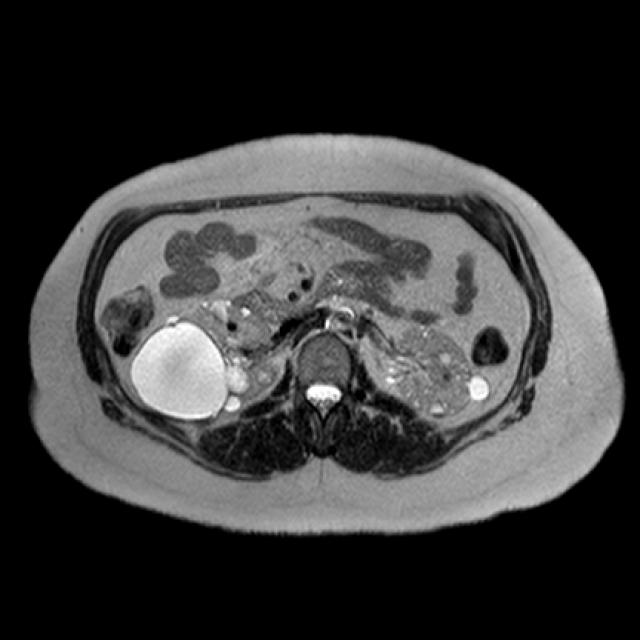sag: (129, 297, 277, 426)
sol: (384, 319, 489, 419)
